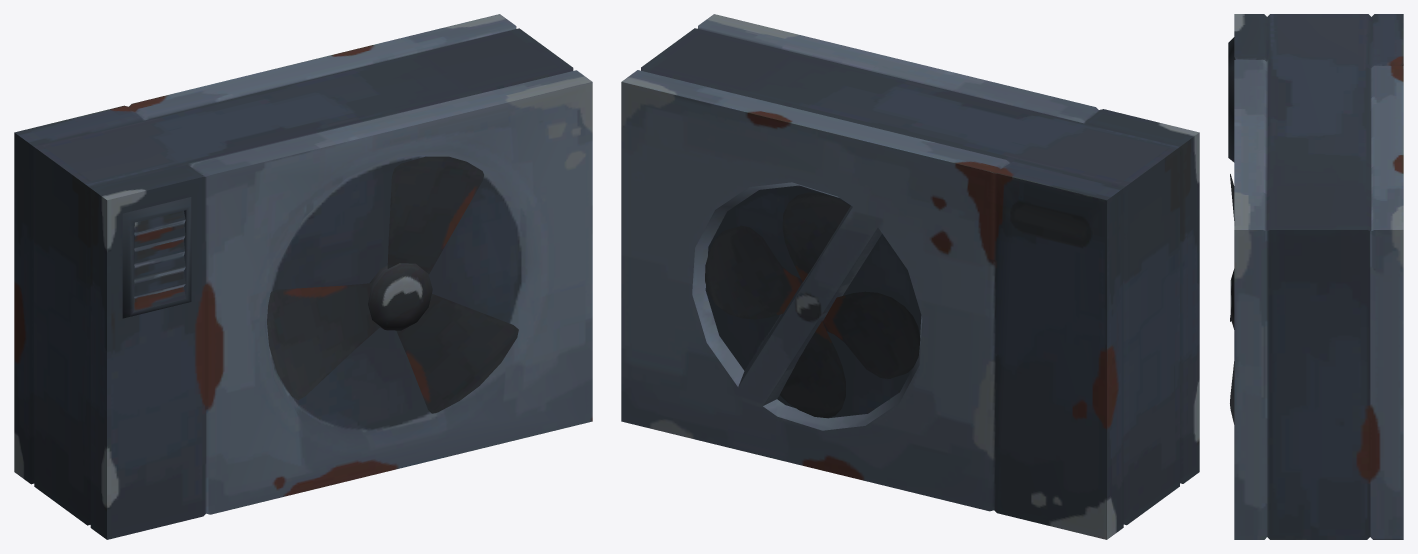
File: AC_Stacked.glb
3 renders of one model, left to right at view 1: azimuth 30°, elevation 25°; view 2: azimuth 150°, elevation 25°; view 3: azimuth 270°, elevation 25°, orthographic. The views are drawn at different scales.
Parts seen in each view (by area): view 1: ModernTech_9_GreebleKitB_LOD0; view 2: ModernTech_9_GreebleKitB_LOD0; view 3: ModernTech_9_GreebleKitB_LOD0.
Boxes of the visible parts, x1,y1,x2,y2 form: ModernTech_9_GreebleKitB_LOD0: (14,14,592,539); ModernTech_9_GreebleKitB_LOD0: (621,14,1199,539); ModernTech_9_GreebleKitB_LOD0: (1228,14,1403,539).
Bounding box in the file's own units: 0.9456 × 0.6321 × 0.3241.
Materials: 1 (1 with a texture image).
